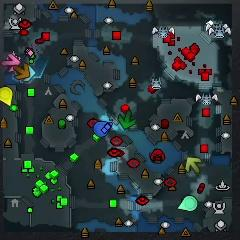p1: (94, 121, 111, 137)
p2: (177, 196, 198, 211)
p4: (0, 86, 13, 106)
x1: (2, 53, 20, 71)
x2: (186, 157, 201, 173)
x3: (24, 66, 36, 82)
x4: (118, 111, 136, 128)
x5: (13, 63, 30, 80)
